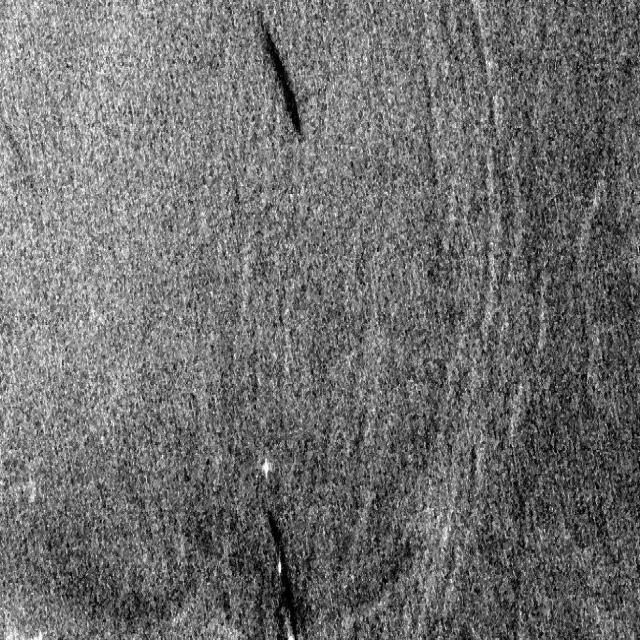oil-spill: (255, 15, 308, 146), (262, 505, 307, 639)
ship: (258, 450, 273, 484), (282, 607, 296, 639), (274, 554, 284, 578)
